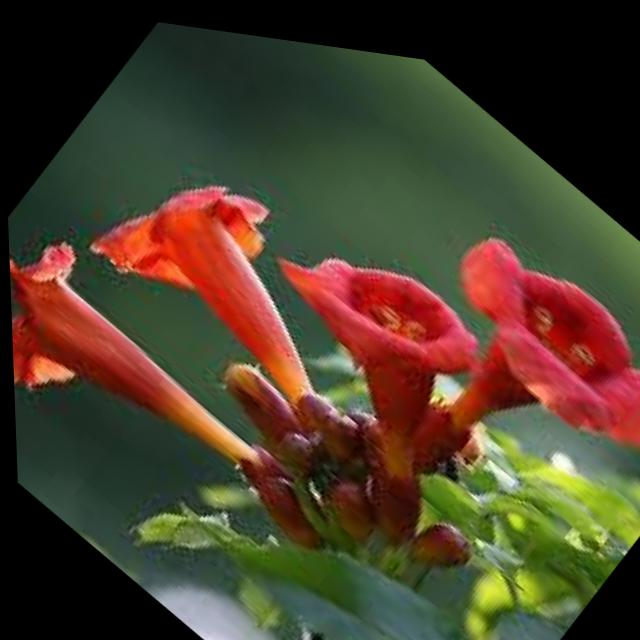Flower: (60, 108, 407, 456), (6, 217, 297, 565), (232, 166, 502, 435), (409, 173, 640, 470)
